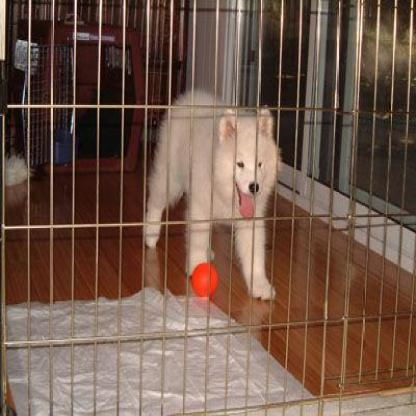Samoyed: (144, 91, 276, 300)
